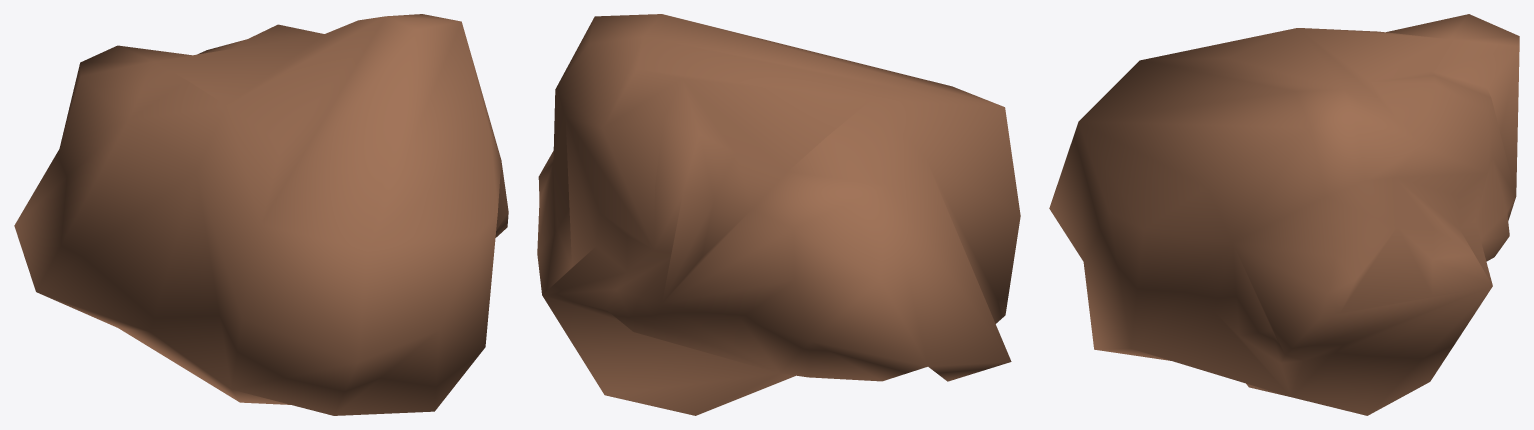
File: rock_medium_2.fbx
3 views of the same model, side by side, from view 1: azimuth 30°, elevation 25°; view 2: azimuth 150°, elevation 25°; view 3: azimuth 270°, elevation 25° (orthographic). The views are drawn at different scales.
Parts seen in each view (by area): view 1: Rock generator addon.014; view 2: Rock generator addon.014; view 3: Rock generator addon.014.
Boxes of the visible parts, left/top/right/bottom form: Rock generator addon.014: left=14, top=14, right=508, bottom=415; Rock generator addon.014: left=537, top=14, right=1020, bottom=415; Rock generator addon.014: left=1049, top=14, right=1519, bottom=415.
Size of the model in its own units: 63.12 by 42.71 by 57.56.
